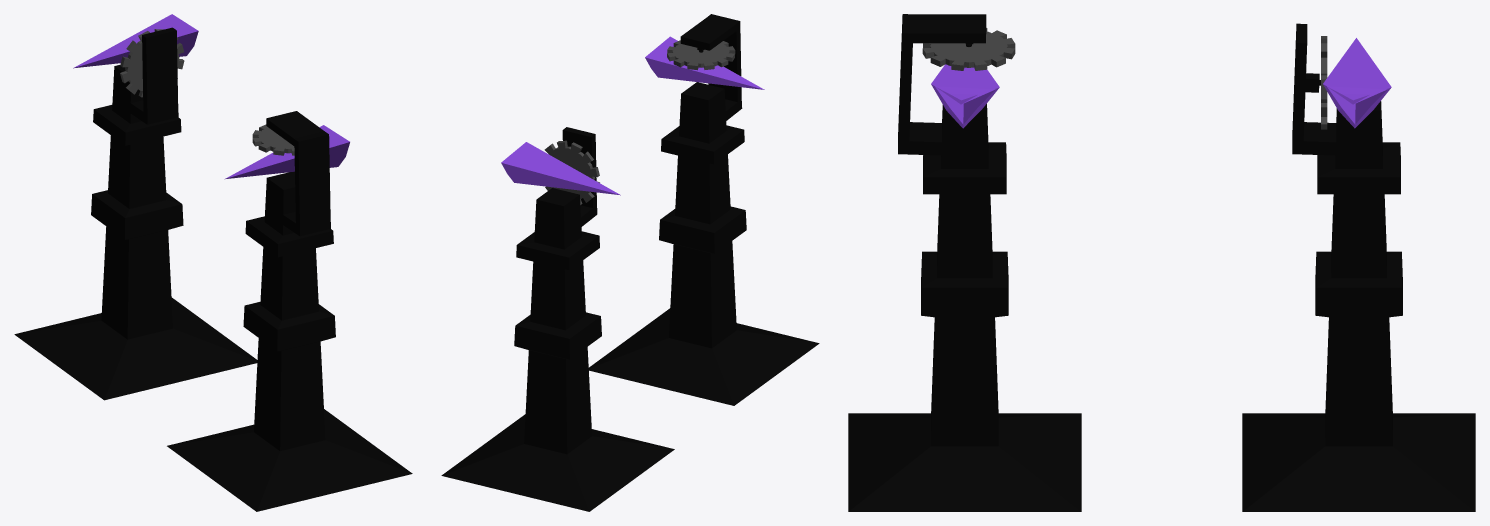
The model's file is GearOperatedLights.fbx.
The picture shows the model from 3 angles, left to right: view 1: azimuth 30°, elevation 25°; view 2: azimuth 150°, elevation 25°; view 3: azimuth 270°, elevation 25°; orthographic projection. The views are drawn at different scales.
Visible parts, largest first — view 1: Plane.001, Plane, Cube.002, Cube.001, Circle, Circle.001; view 2: Plane.001, Plane, Cube.002, Cube.001, Circle.001, Circle; view 3: Plane.001, Plane, Cube.002, Cube.001, Circle.001.
Part boxes in pixels (x1=…): Plane.001: x1=167, y1=111, x2=412, y2=511; Plane: x1=14, y1=27, x2=257, y2=400; Cube.002: x1=73, y1=14, x2=198, y2=68; Cube.001: x1=224, y1=125, x2=349, y2=179; Circle: x1=120, y1=29, x2=184, y2=97; Circle.001: x1=252, y1=124, x2=294, y2=155; Plane.001: x1=588, y1=14, x2=819, y2=405; Plane: x1=441, y1=127, x2=674, y2=511; Cube.002: x1=501, y1=142, x2=620, y2=195; Cube.001: x1=645, y1=36, x2=764, y2=89; Circle.001: x1=667, y1=40, x2=735, y2=70; Circle: x1=544, y1=140, x2=599, y2=204; Plane.001: x1=848, y1=14, x2=1081, y2=511; Plane: x1=1242, y1=23, x2=1475, y2=511; Cube.002: x1=1323, y1=38, x2=1391, y2=128; Cube.001: x1=931, y1=64, x2=999, y2=128; Circle.001: x1=922, y1=28, x2=1015, y2=70.
Size of the model in its own units: 200 by 415 by 538.
